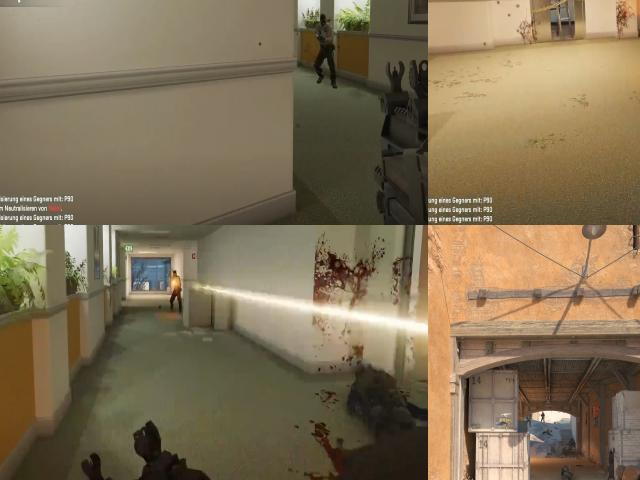CT: (526, 415, 533, 426), (541, 412, 545, 422)
CT-Head: (542, 412, 544, 413)
Dead: (562, 464, 574, 480), (542, 428, 553, 436), (569, 437, 576, 446)
T: (316, 12, 337, 60), (170, 263, 182, 300), (318, 12, 331, 30)
T-Head: (171, 268, 180, 282)
